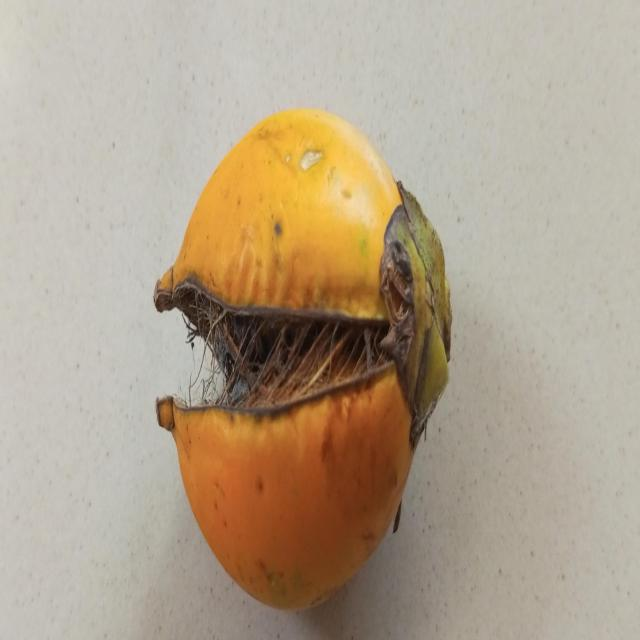damaged: (153, 109, 454, 611)
